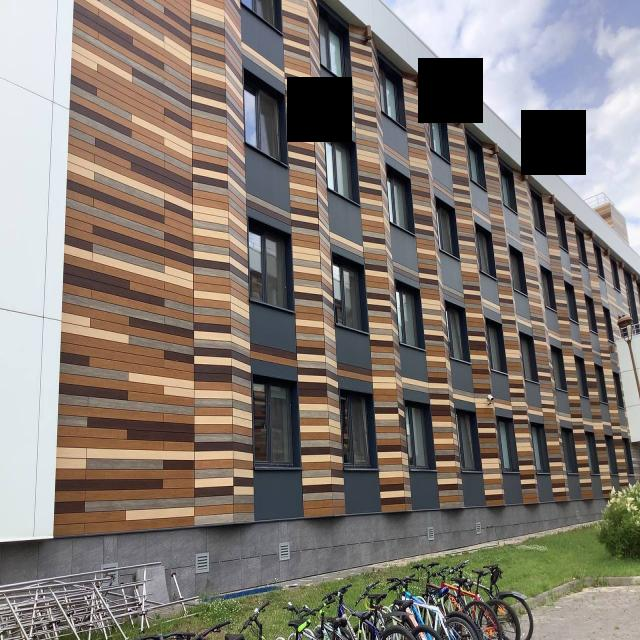Building: (0, 0, 640, 597)
